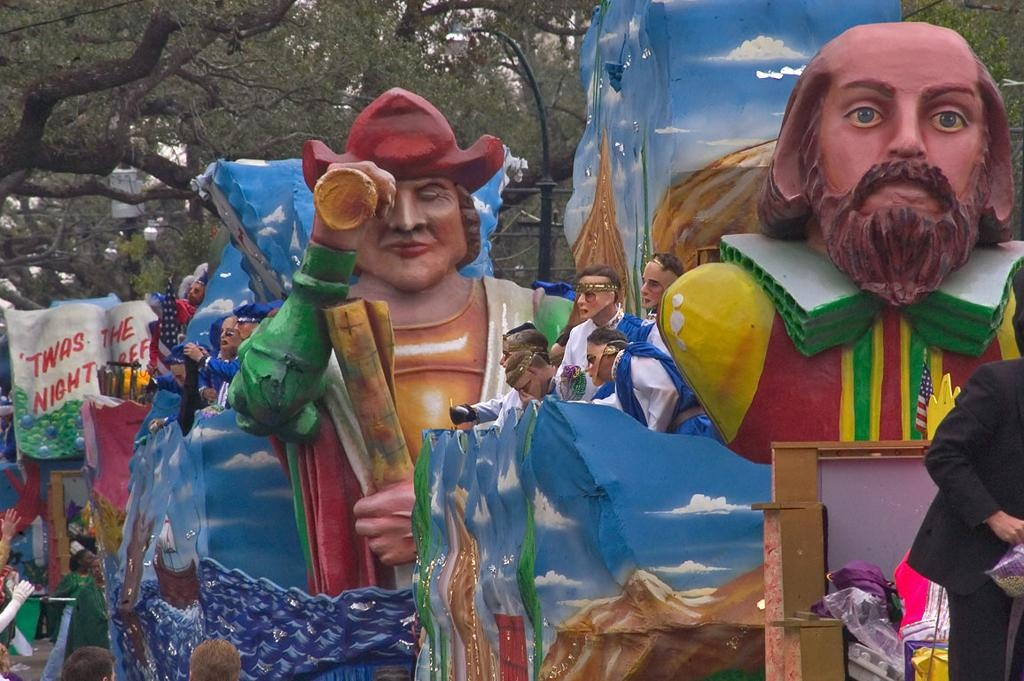human_face: (820, 31, 984, 219), (348, 156, 466, 290), (638, 264, 672, 308), (576, 277, 610, 319), (584, 342, 614, 385), (499, 340, 525, 378), (502, 346, 528, 382), (512, 378, 540, 402), (220, 320, 238, 348), (234, 317, 252, 339), (187, 282, 203, 300), (170, 357, 184, 375), (80, 552, 98, 564), (91, 561, 103, 577)
